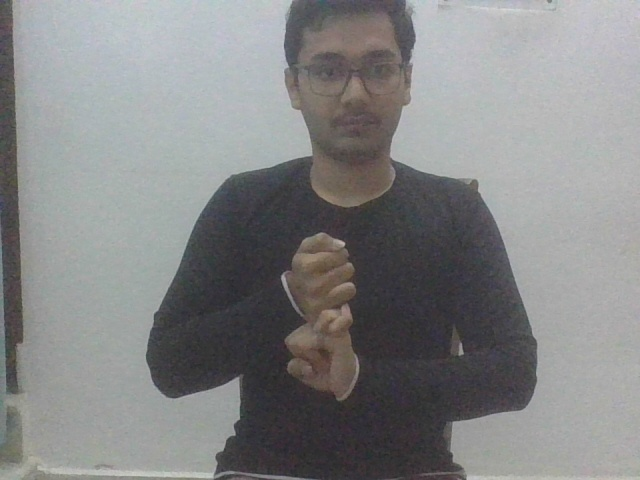S: (281, 230, 361, 400)
